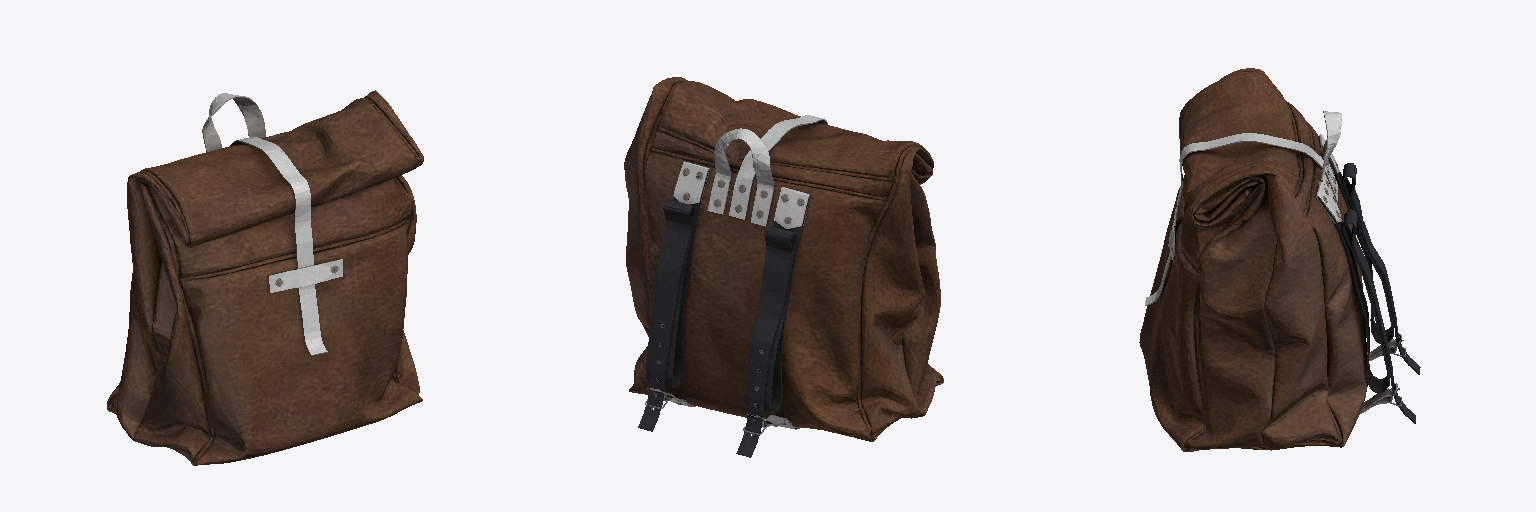
3 views of the same model, side by side, from view 1: azimuth 30°, elevation 25°; view 2: azimuth 150°, elevation 25°; view 3: azimuth 270°, elevation 25° (orthographic).
Parts seen in each view (by area): view 1: solid_003, solid_002, solid_001; view 2: solid_003, solid_005, solid_002, solid_001; view 3: solid_003, solid_005, solid_002, solid_001.
Boxes of the visible parts, <box> form: solid_003: <box>107,90,423,465</box>; solid_002: <box>206,93,342,354</box>; solid_001: <box>202,96,340,355</box>; solid_003: <box>624,77,943,441</box>; solid_005: <box>638,171,808,457</box>; solid_002: <box>663,115,827,429</box>; solid_001: <box>665,119,827,429</box>; solid_003: <box>1139,68,1367,451</box>; solid_005: <box>1318,158,1420,423</box>; solid_002: <box>1145,111,1396,410</box>; solid_001: <box>1145,111,1396,414</box>.
Bounding box in the file's own units: 1.32 × 1.27 × 1.13.
1 materials, 1 textured.